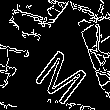M_NE: (28, 33, 92, 102)
